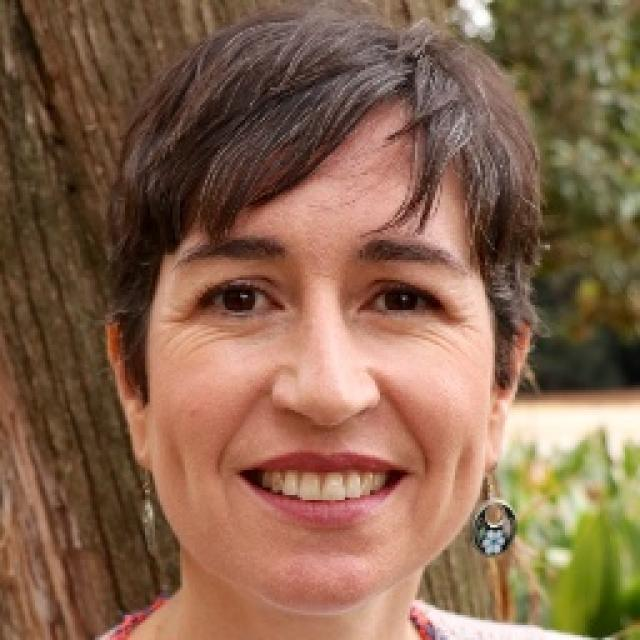earlobe: (104, 311, 156, 472), (482, 315, 533, 474)
